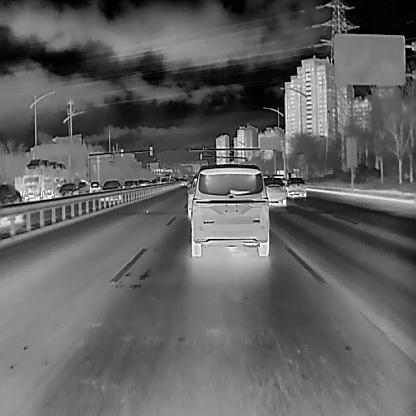car: (186, 159, 271, 257), (259, 174, 287, 205), (100, 177, 122, 201), (284, 177, 308, 198), (58, 180, 77, 195), (122, 174, 137, 190), (75, 180, 88, 194), (88, 178, 100, 192), (138, 177, 152, 188)
truck: (16, 156, 68, 200)
